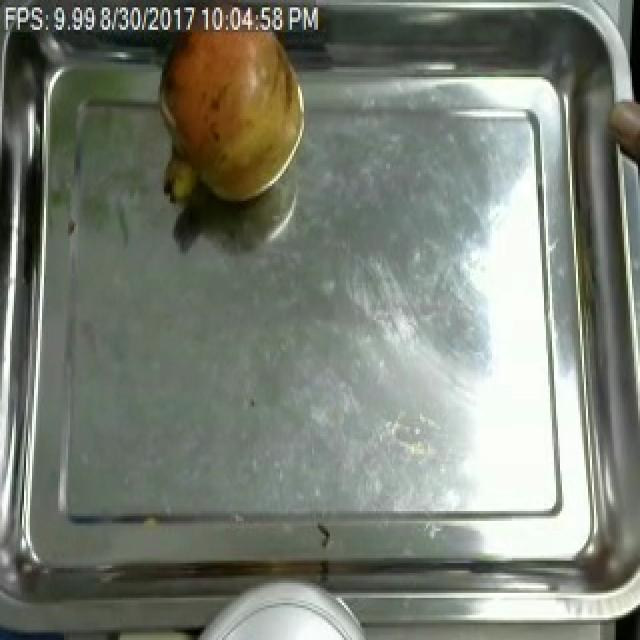fruit: (152, 8, 306, 214), (606, 87, 640, 181)
